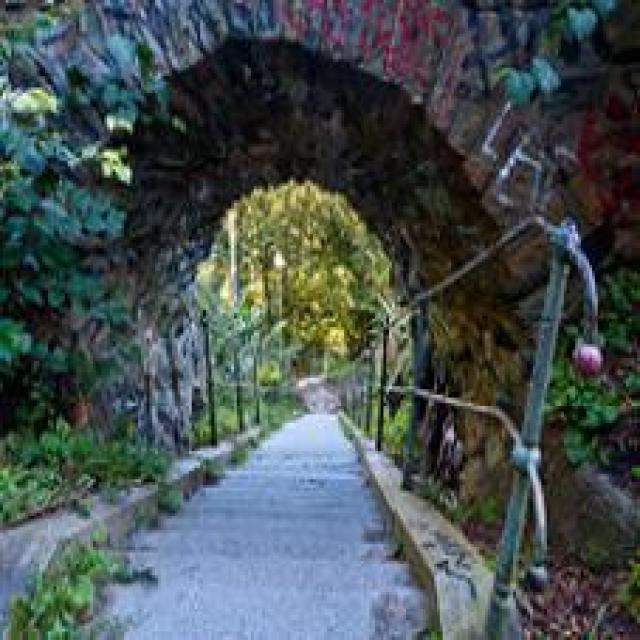downstair: (77, 478, 435, 638)
